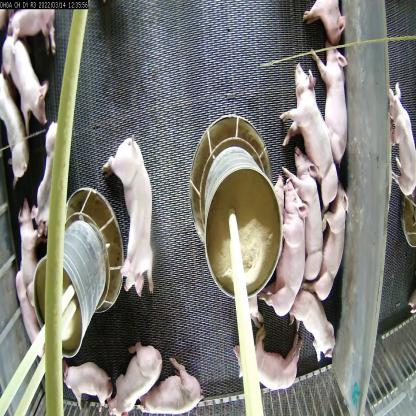Pig: (103, 122, 160, 292), (283, 57, 339, 192), (267, 174, 308, 320), (0, 32, 51, 133), (314, 32, 349, 164), (290, 150, 323, 280), (111, 344, 164, 415), (138, 359, 204, 415), (314, 183, 347, 292), (241, 335, 299, 396), (294, 284, 342, 355), (66, 356, 119, 416), (38, 118, 68, 221), (21, 194, 43, 284)
